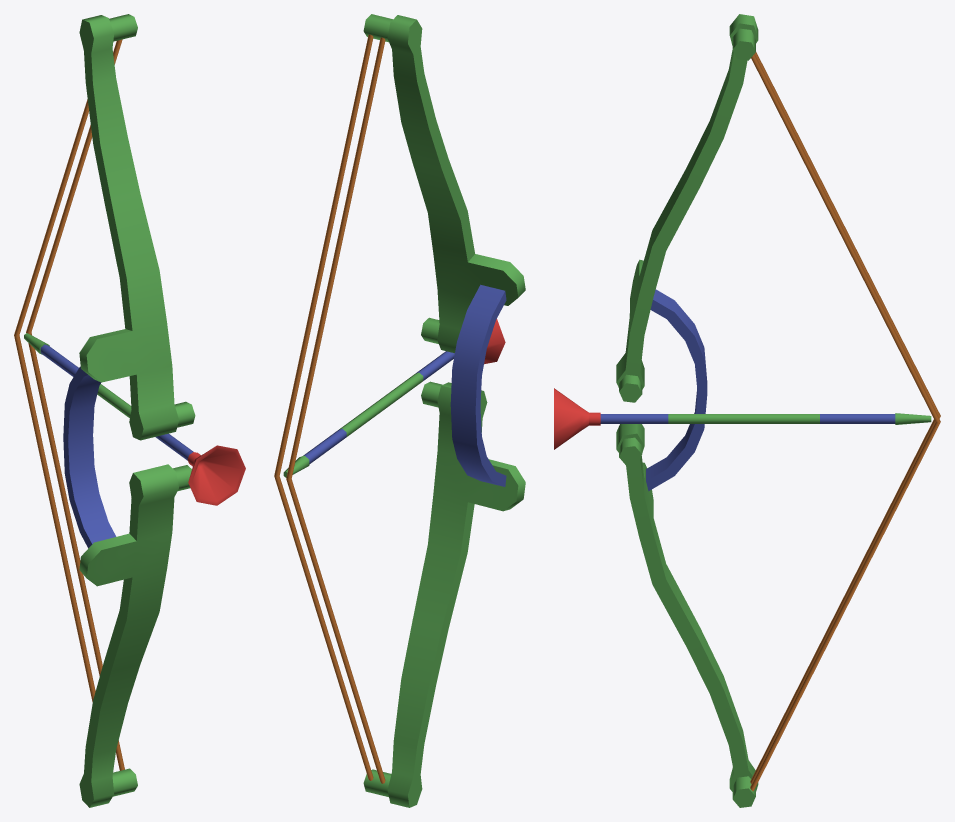
File: Bow_01.fbx
3 renders of one model, left to right at view 1: azimuth 30°, elevation 25°; view 2: azimuth 150°, elevation 25°; view 3: azimuth 270°, elevation 25°, orthographic.
Visible parts, largest first — view 1: Bow_01, Bolt_01; view 2: Bow_01, Bolt_01; view 3: Bow_01, Bolt_01.
Boxes of the visible parts, x1=… form: Bow_01: x1=14, y1=14, x2=195, y2=807; Bolt_01: x1=24, y1=333, x2=245, y2=505; Bow_01: x1=274, y1=14, x2=525, y2=807; Bolt_01: x1=283, y1=319, x2=505, y2=477; Bow_01: x1=616, y1=14, x2=940, y2=807; Bolt_01: x1=554, y1=388, x2=931, y2=449.
Size of the model in its own units: 0.1474 by 0.9388 by 0.4235.
